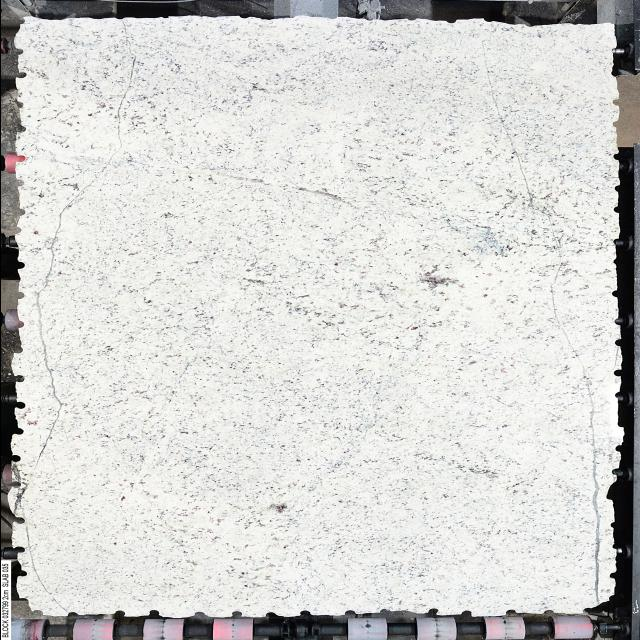chapa: (18, 16, 615, 617)
furo: (9, 591, 52, 625), (572, 588, 620, 616)
veio: (600, 566, 620, 582), (7, 451, 24, 467), (607, 462, 624, 478), (7, 544, 29, 556), (13, 67, 29, 83), (498, 605, 518, 617), (8, 400, 27, 412), (7, 426, 25, 438), (609, 388, 627, 400), (453, 610, 474, 620), (228, 608, 246, 619), (610, 365, 624, 379), (1, 481, 24, 489), (12, 260, 26, 273), (10, 175, 24, 188), (112, 608, 130, 618), (146, 608, 164, 618), (10, 124, 28, 134), (424, 605, 440, 616), (13, 152, 25, 166), (294, 609, 314, 617), (338, 608, 358, 616), (613, 438, 623, 454), (13, 568, 27, 578), (607, 288, 621, 298), (10, 515, 23, 525), (609, 338, 625, 346), (10, 375, 24, 383)
